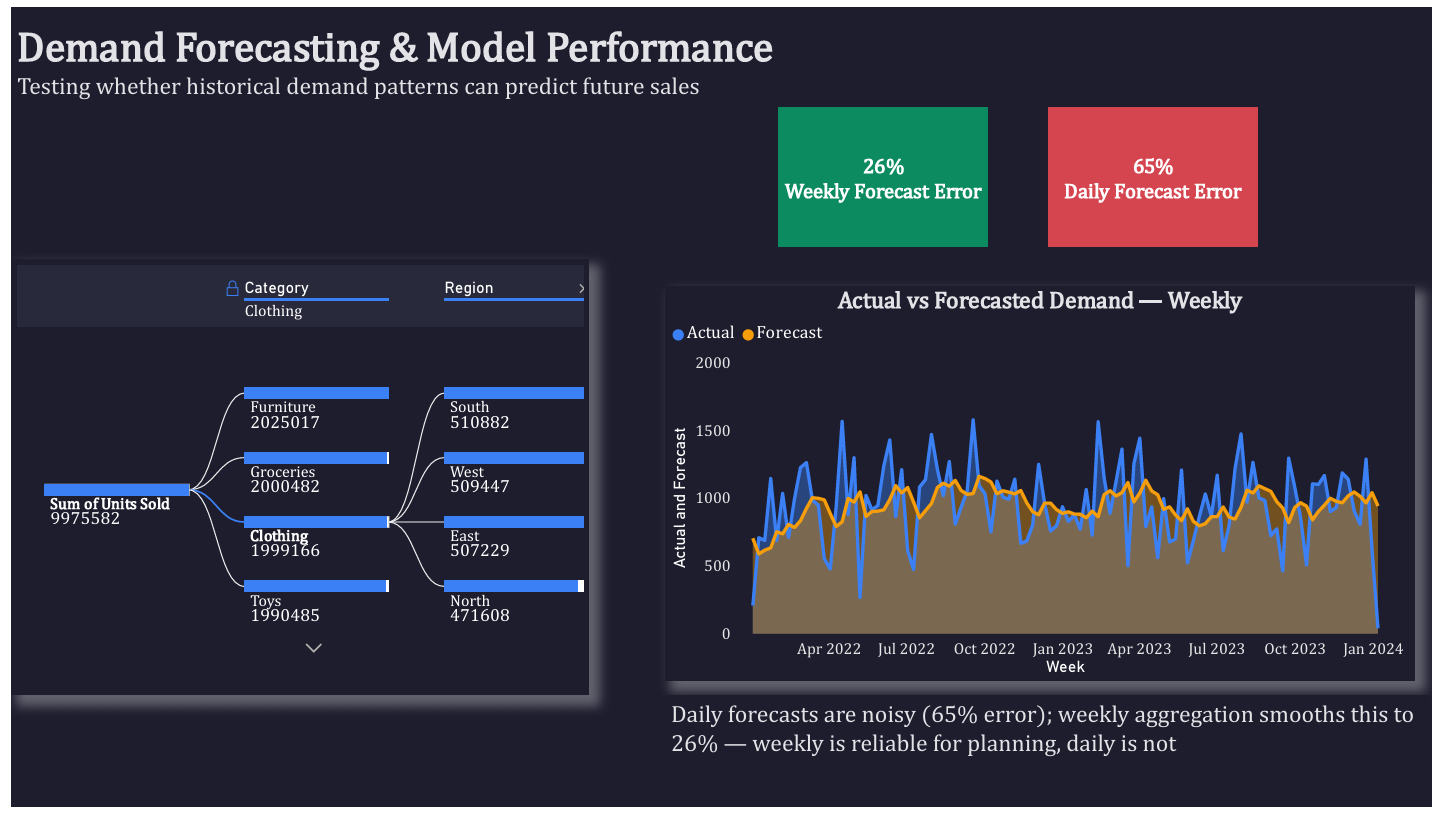

What the dashboard file says about the page in this screenshot:
{"tool":"powerbi","page":{"name":"Demand Forecasting","canvas":[1280,720],"ordinal":2},"visuals":[{"type":"textbox","box":[0,11.1,785.6,114.4],"z":0},{"type":"areaChart","title":"Actual vs Forecasted Demand — Weekly","fields":{"Y":["Sum(weekly_forecast.Actual)","Sum(weekly_forecast.Forecast)"],"Category":["weekly_forecast.Week"]},"box":[588.9,251.1,675.6,354.4],"z":1000},{"type":"textbox","box":[934.4,90,188.9,125.6],"z":2000},{"type":"textbox","box":[691.1,90,188.9,125.6],"z":3000},{"type":"decompositionTreeVisual","fields":{"Analyze":["Sum(inventory_analysis_full.Units Sold)"],"ExplainBy":["inventory_analysis_full.Category","inventory_analysis_full.Region","inventory_analysis_full.Seasonality"]},"box":[0,226.7,520,392.2],"z":3001},{"type":"textbox","box":[588.9,618.9,687.8,82.2],"z":3002}]}

Visuals, with their boxes in screenshot pixels (x1, y1, x2, y2), scaled from the page's 1280x720 canvas onto the 1443x827 screenshot:
textbox: (x1=0, y1=13, x2=886, y2=144)
"Actual vs Forecasted Demand — Weekly" areaChart: (x1=664, y1=288, x2=1426, y2=695)
textbox: (x1=1053, y1=103, x2=1266, y2=248)
textbox: (x1=779, y1=103, x2=992, y2=248)
decompositionTreeVisual - Sum(inventory_analysis_full.Units Sold) x inventory_analysis_full.Category: (x1=0, y1=260, x2=586, y2=711)
textbox: (x1=664, y1=711, x2=1439, y2=805)
